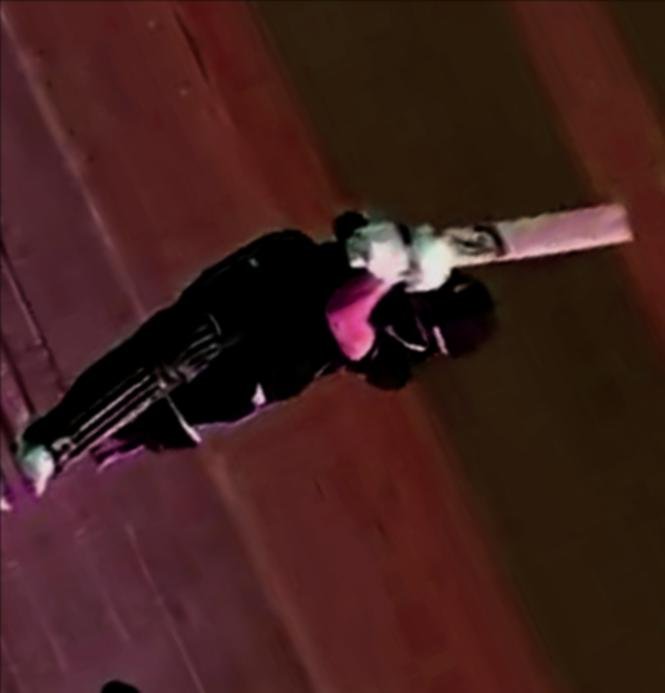batsman: (0, 67, 623, 543)
